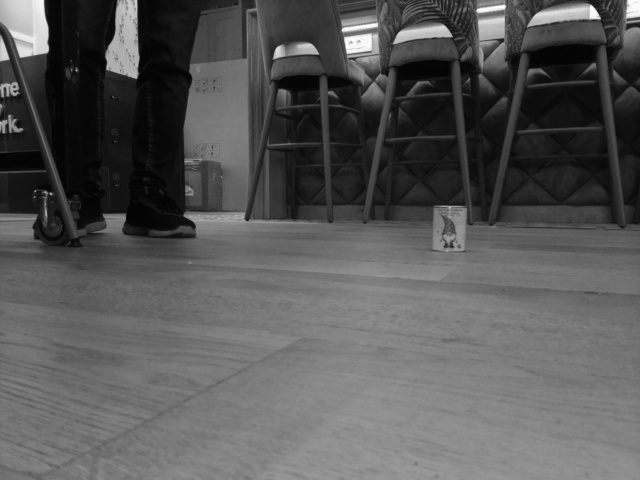gnome: (437, 214, 462, 250)
